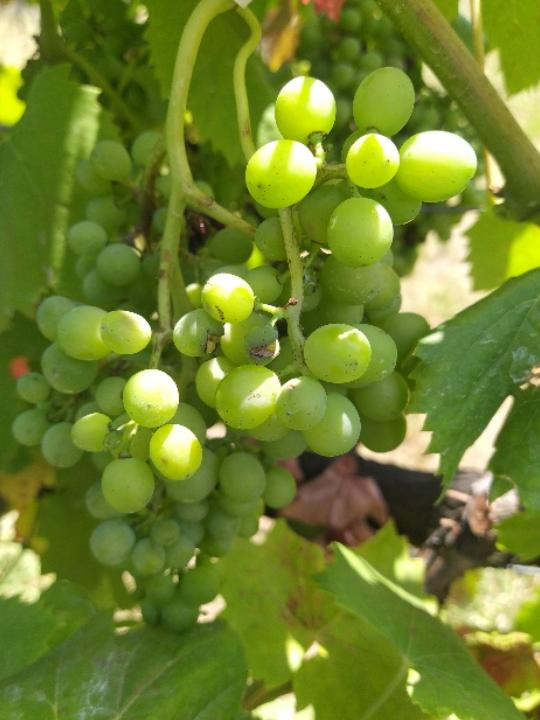grape: (7, 67, 481, 633)
